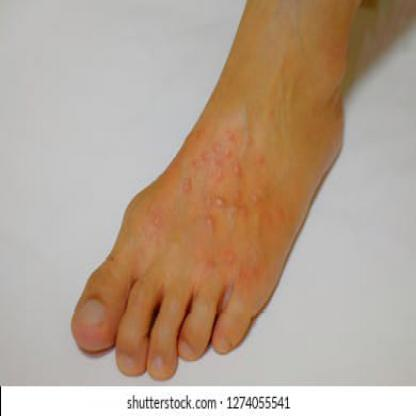Fire ant: (146, 149, 208, 191), (144, 96, 194, 145), (147, 195, 180, 228), (129, 117, 143, 164), (108, 163, 118, 190)
